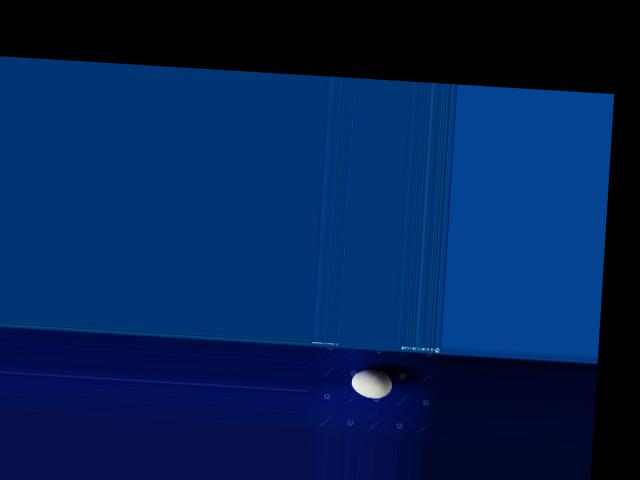egg: (350, 367, 392, 398)
